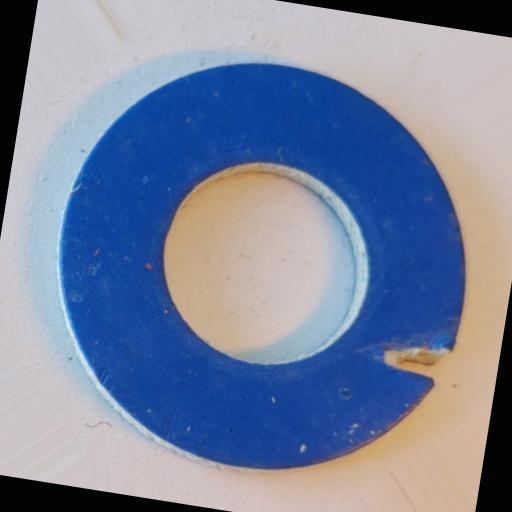defect: (351, 332, 454, 387)
